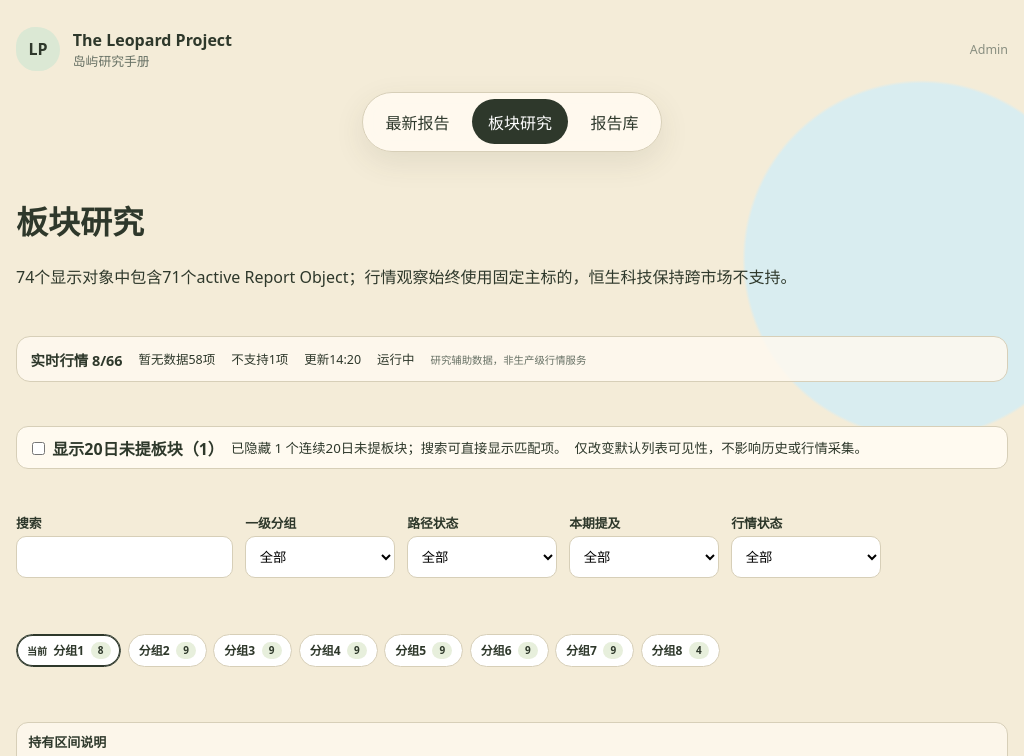
Test: Viewer research pages › dormant_toggle_behavior_unchanged
Expected: the link "板块2" is not shown
Type "板块2" into the field labelled "搜索". click: (125, 557)
box: [16,536,233,578]
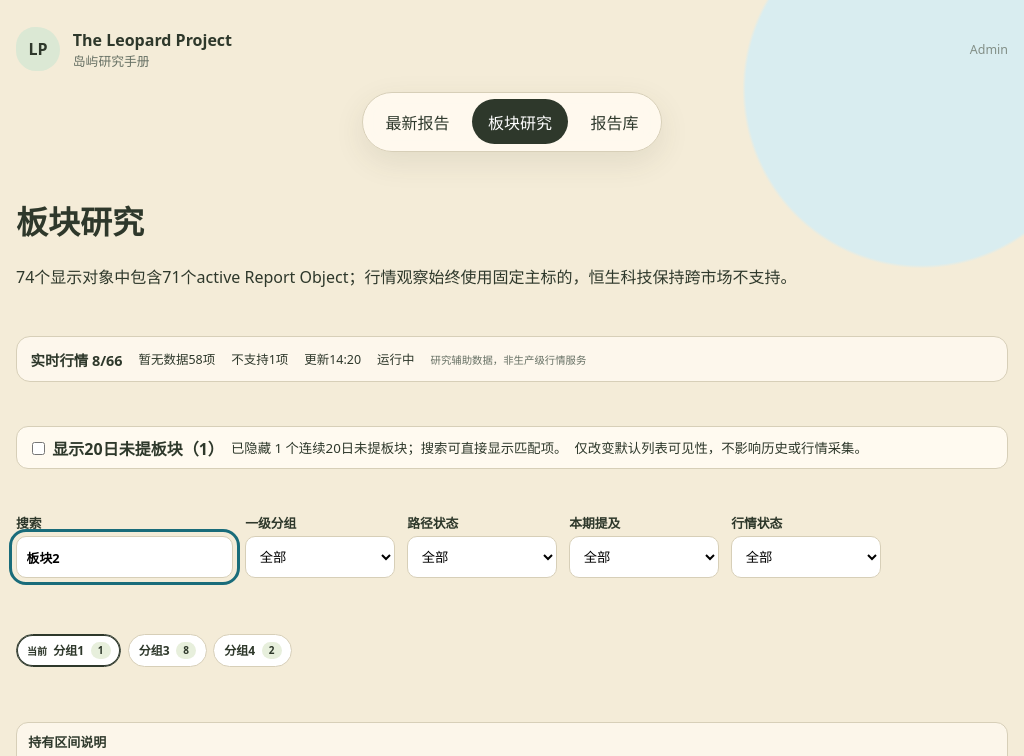
Clear the field labelled "搜索". click: (125, 557)
box: [16,536,233,578]
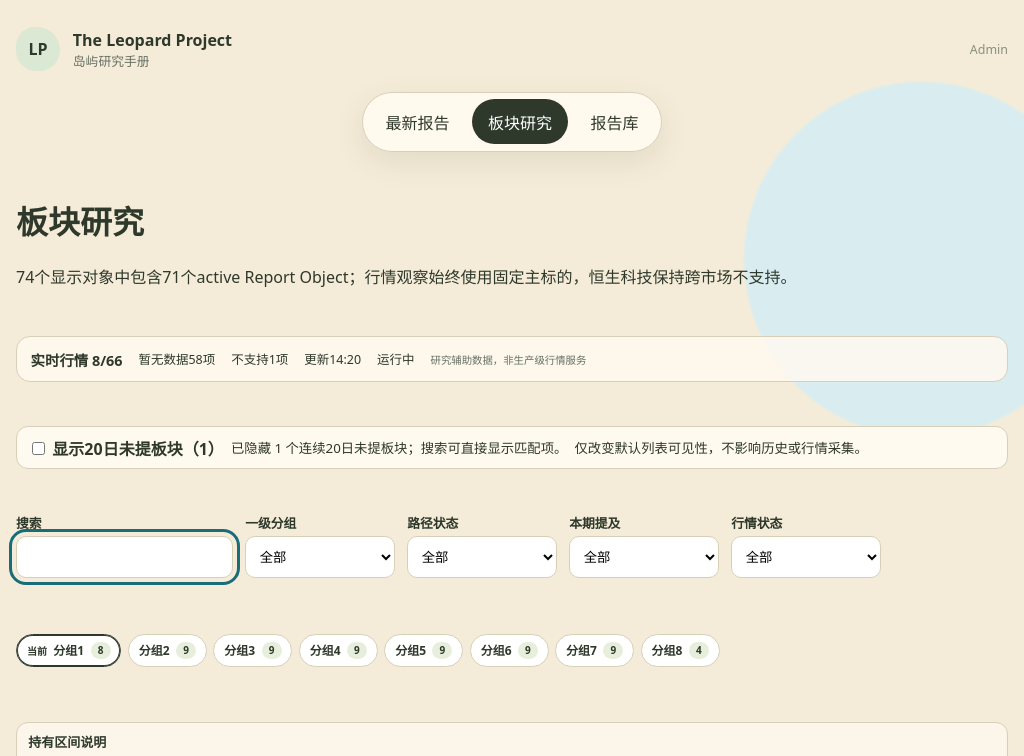
Click the checkbox labelled "显示20日未提板块（1）". click: (39, 448)
box: [32,442,45,455]
(page scrolled)
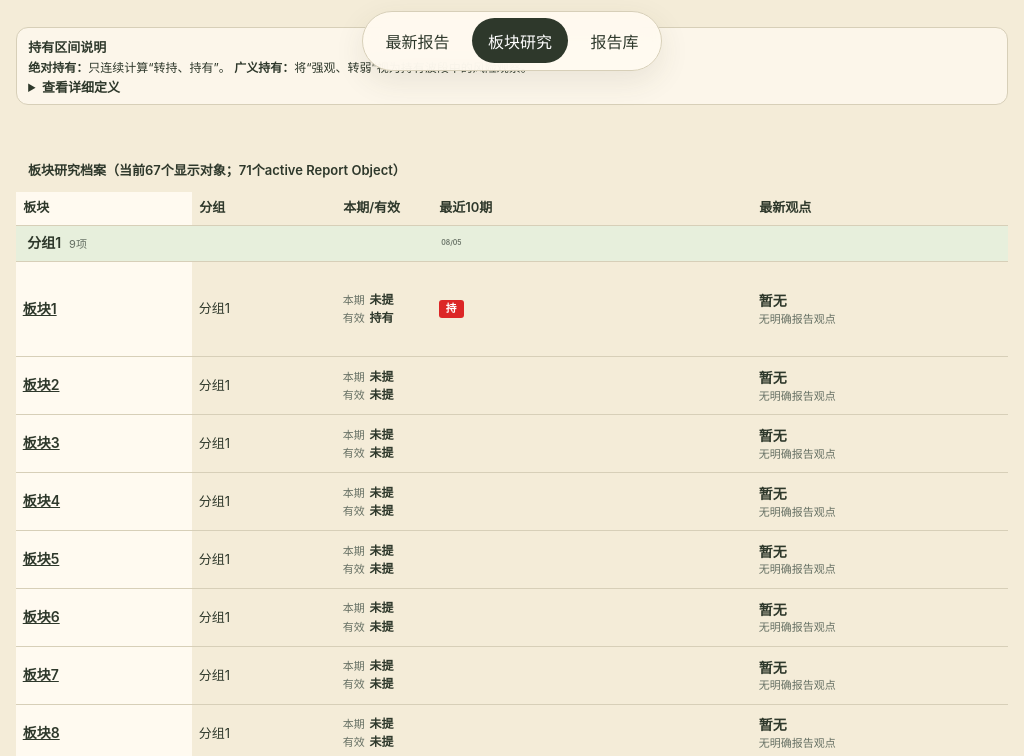
Expected: the link "板块2" is shown, [23,376,59,393]
